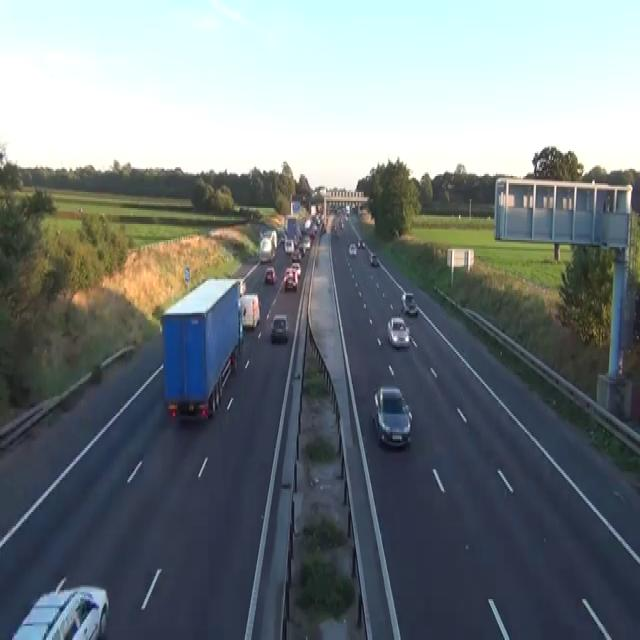Car: (10, 576, 109, 638), (372, 386, 412, 448), (387, 316, 410, 348), (270, 313, 288, 343), (259, 237, 274, 263), (401, 292, 418, 314), (283, 266, 297, 290), (264, 266, 276, 282), (238, 310, 243, 348), (236, 277, 246, 295), (91, 362, 101, 380), (276, 228, 286, 244), (291, 262, 301, 276), (284, 238, 294, 252), (230, 350, 236, 372), (301, 235, 310, 249), (370, 252, 378, 265), (309, 224, 316, 238), (348, 242, 356, 254), (357, 238, 365, 249), (304, 219, 311, 231), (350, 202, 357, 212), (320, 224, 326, 233), (339, 219, 344, 229), (329, 204, 335, 212), (345, 204, 349, 213), (345, 213, 349, 220), (361, 240, 365, 247), (357, 238, 360, 247)
Truck: (160, 276, 243, 422), (239, 291, 260, 329)
